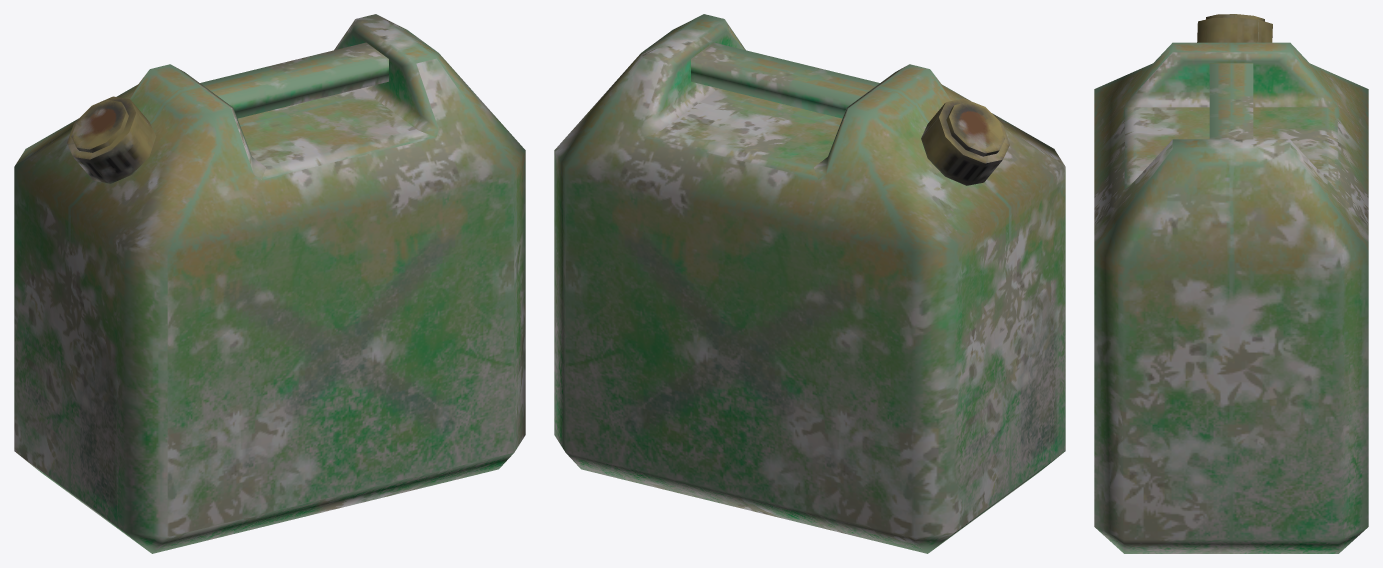
3 renders of one model, left to right at view 1: azimuth 30°, elevation 25°; view 2: azimuth 150°, elevation 25°; view 3: azimuth 270°, elevation 25°, orthographic. The views are drawn at different scales.
Visible parts, largest first — view 1: Obj_WallaPolyTank_box5__PolyTank; view 2: Obj_WallaPolyTank_box5__PolyTank; view 3: Obj_WallaPolyTank_box5__PolyTank.
Part boxes in pixels (box(x1,y1,x2,y2)): Obj_WallaPolyTank_box5__PolyTank: box(14, 14, 525, 553); Obj_WallaPolyTank_box5__PolyTank: box(554, 14, 1065, 553); Obj_WallaPolyTank_box5__PolyTank: box(1094, 14, 1368, 553).
Bounding box in the file's own units: 1.2 × 1.16 × 0.7377.
Materials: 1 (1 with a texture image).
